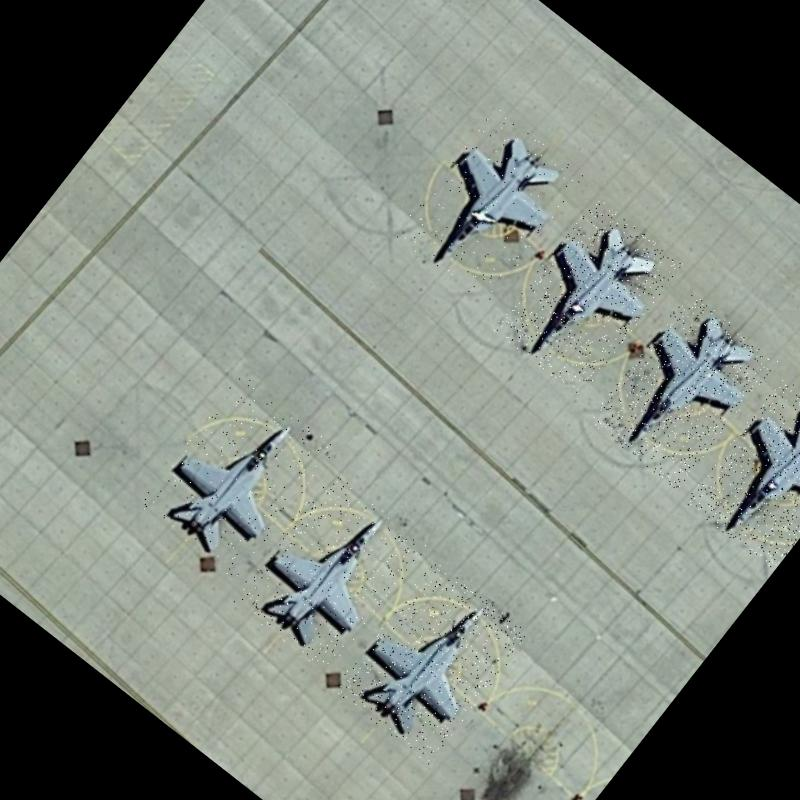A16: (137, 373, 337, 580), (332, 559, 531, 765), (229, 470, 428, 676), (492, 196, 684, 398), (394, 106, 586, 307), (588, 291, 778, 491), (684, 376, 800, 572)
